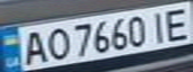0: (124, 12, 151, 47)
6: (90, 17, 115, 54), (109, 16, 133, 51)
7: (69, 20, 93, 57)
A: (15, 28, 51, 65)
E: (160, 4, 193, 42)
I: (145, 8, 172, 43)
O: (42, 25, 72, 62)
